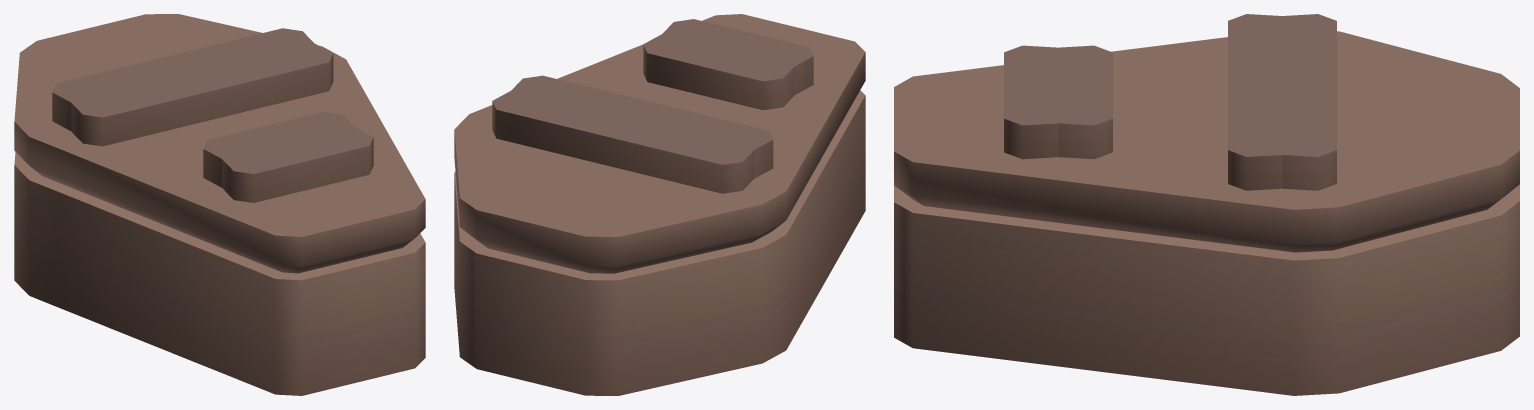
Rendered from coffin.glb.
3 renders of one model, left to right at view 1: azimuth 30°, elevation 25°; view 2: azimuth 150°, elevation 25°; view 3: azimuth 270°, elevation 25°, orthographic. The views are drawn at different scales.
Parts seen in each view (by area): view 1: lid, coffin; view 2: lid, coffin; view 3: lid, coffin.
Part boxes in pixels (x1,y1,x2,y2): lid: (14,14,425,273); coffin: (14,152,425,395); lid: (454,14,865,273); coffin: (454,90,865,395); lid: (894,14,1519,252); coffin: (894,184,1519,395).
Bounding box in the file's own units: 1.15 × 0.65 × 1.68.
1 material, 1 textured.
